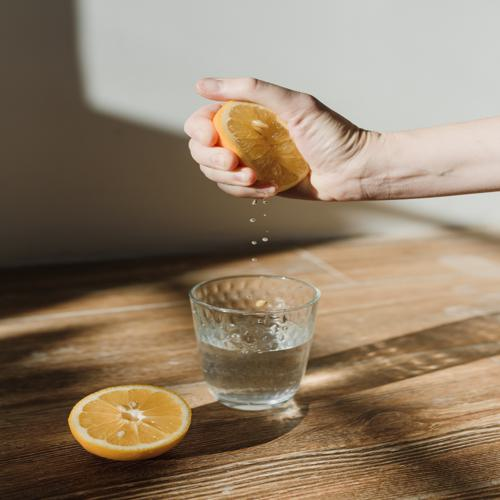vaso: (186, 271, 322, 413)
